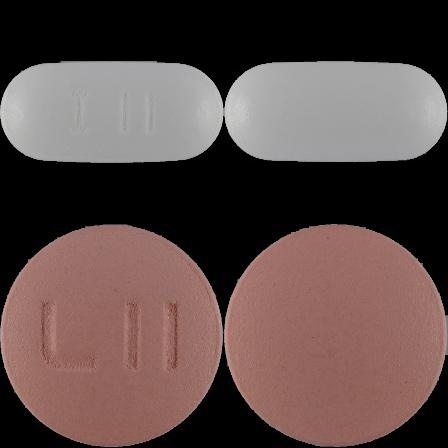68788-6322: (0, 0, 224, 224)
